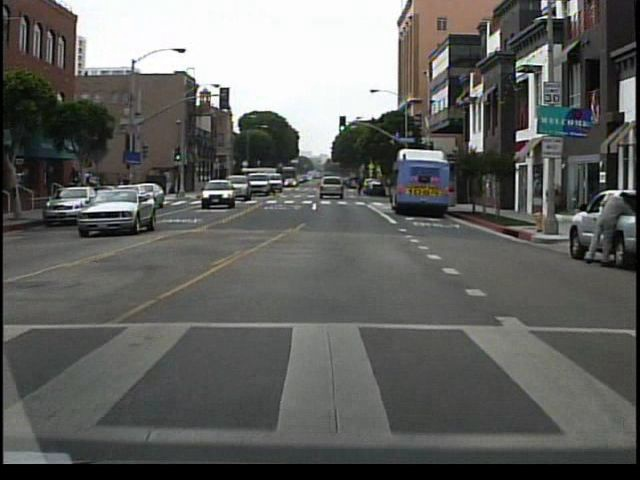person: (577, 184, 632, 267)
